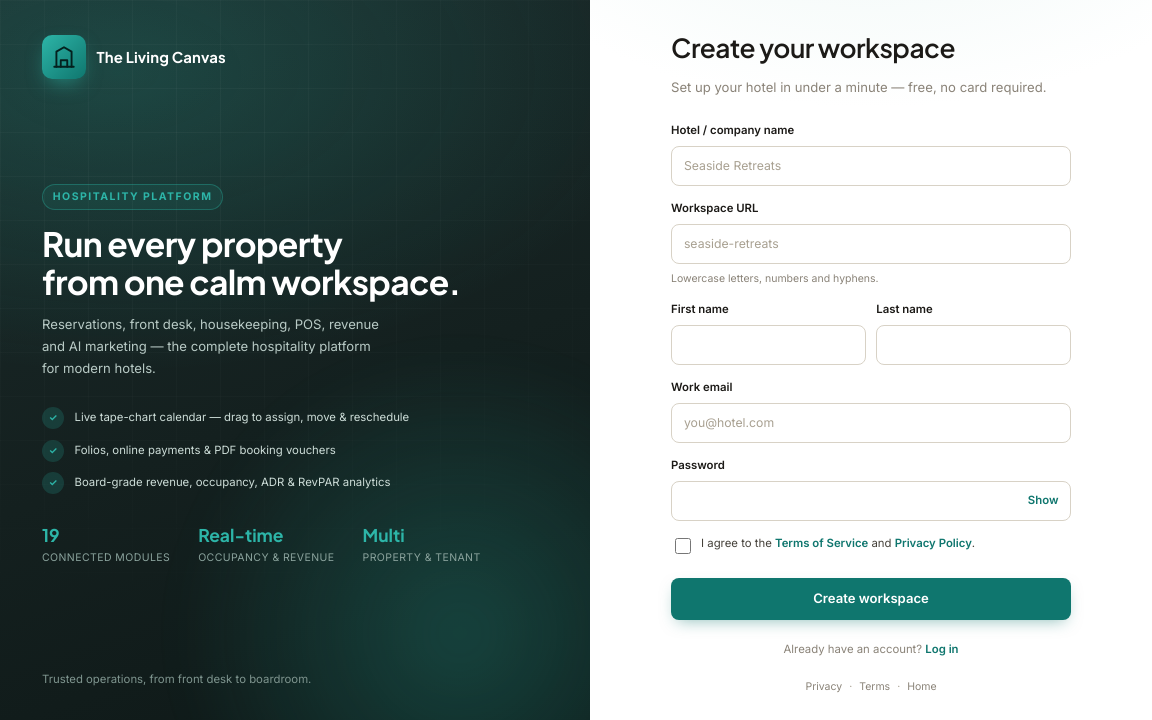
Scenario: SignupPage validation › derives the workspace URL from the hotel name
The image size is (1152, 720).
In the field labelled "Hotel / company name": (871, 166) 671,146 -> 1071,186, type "Café Résidence Goa"
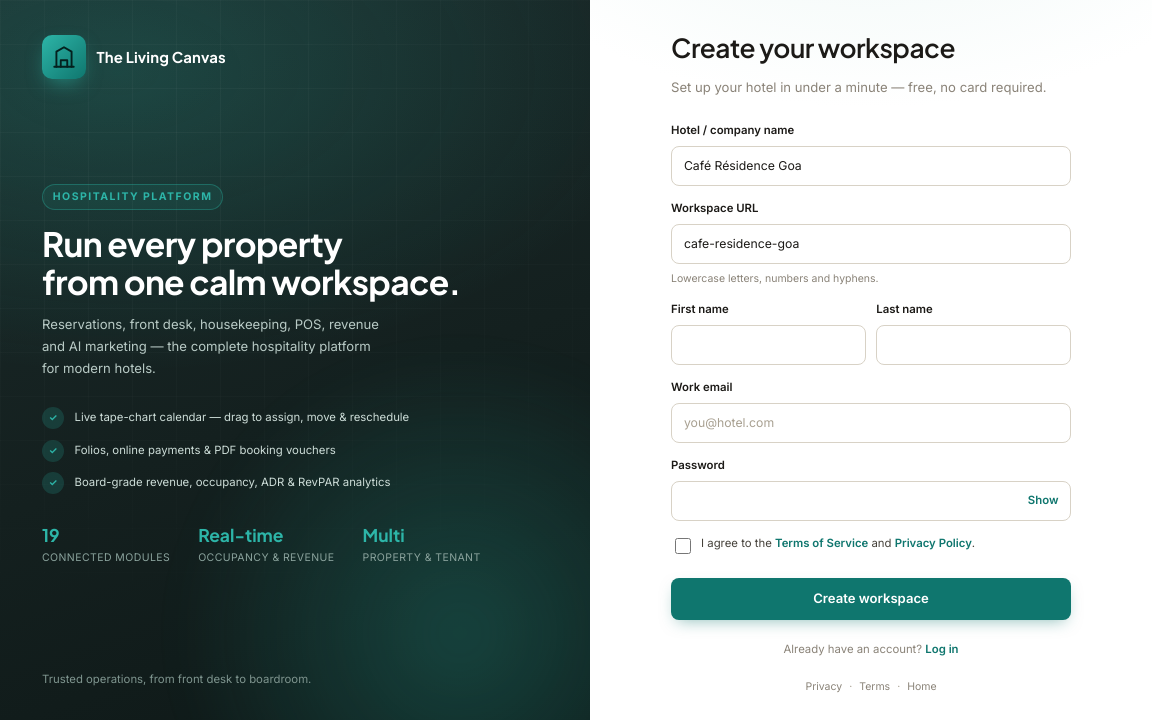
Now the field labelled "Workspace URL" holds "cafe-residence-goa", box 671,224 -> 1071,264
